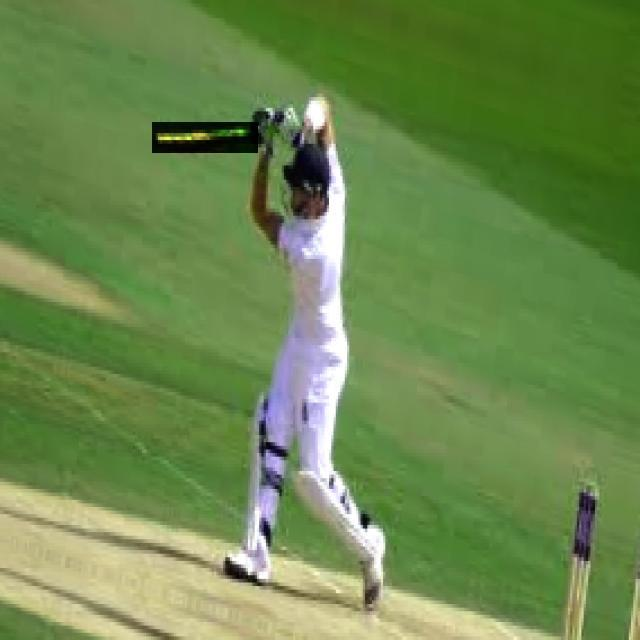bat: (153, 119, 264, 155)
